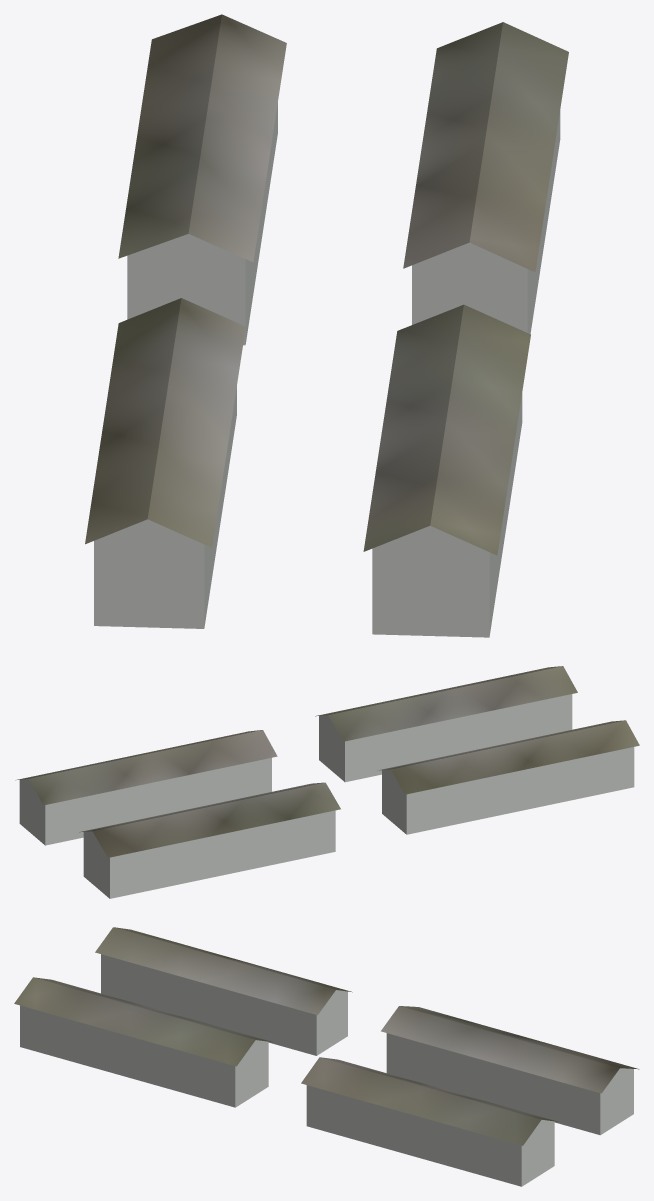
Rendered from LSZH_4_0.glb.
3 renders of one model, top to bottom at view 1: azimuth 30°, elevation 25°; view 2: azimuth 150°, elevation 25°; view 3: azimuth 270°, elevation 25°, orthographic. The views are drawn at different scales.
Visible parts, largest first — view 1: building_1ebe7cb819223af3, building_e32baf9edd393371; view 2: building_e32baf9edd393371, building_1ebe7cb819223af3; view 3: building_e32baf9edd393371, building_1ebe7cb819223af3.
Part boxes in pixels (<box>): building_1ebe7cb819223af3: <box>85,14,568,555</box>; building_e32baf9edd393371: <box>94,103,560,637</box>; building_e32baf9edd393371: <box>19,694,634,898</box>; building_1ebe7cb819223af3: <box>15,666,639,857</box>; building_e32baf9edd393371: <box>20,954,633,1186</box>; building_1ebe7cb819223af3: <box>14,927,639,1145</box>.
Size of the model in its own units: 59.76 by 7.56 by 73.1.
Materials: 2 (1 with a texture image).
